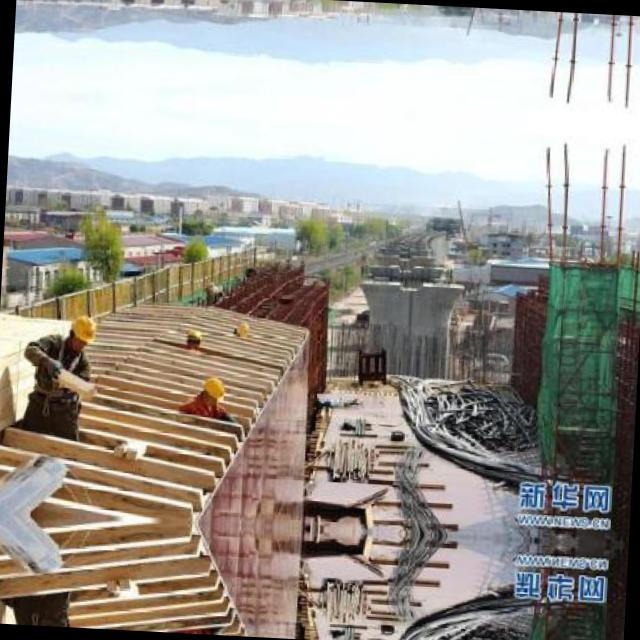helmet: (64, 311, 100, 353), (194, 372, 227, 406), (230, 316, 252, 338), (181, 328, 202, 348)
